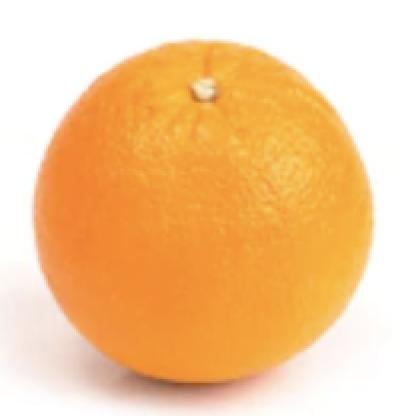fresh: (36, 42, 372, 386)
